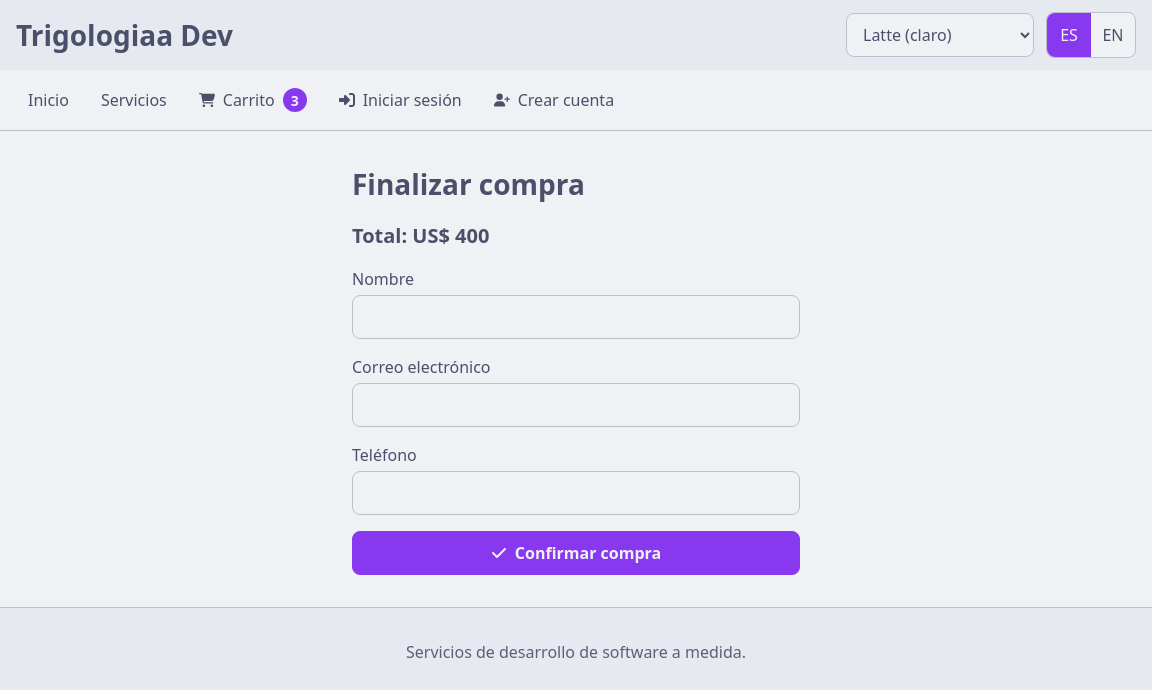
it: CheckoutPage › creates the order with a snapshot, shows its number and empties the cart
The width and height of the screenshot is (1152, 690).
Type "Ana" into the field labelled "Nombre" at [576, 317], box [352,295,800,339]
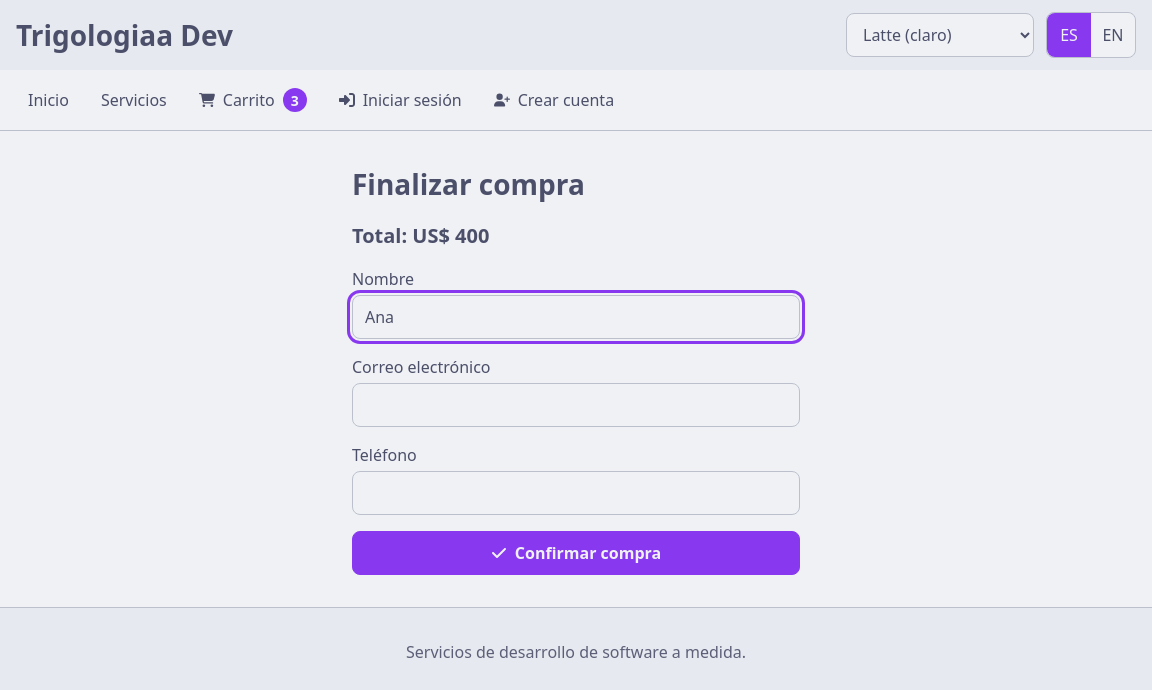
Type "ana@example.com" into the field labelled "Correo electrónico" at [576, 405], box [352,383,800,427]
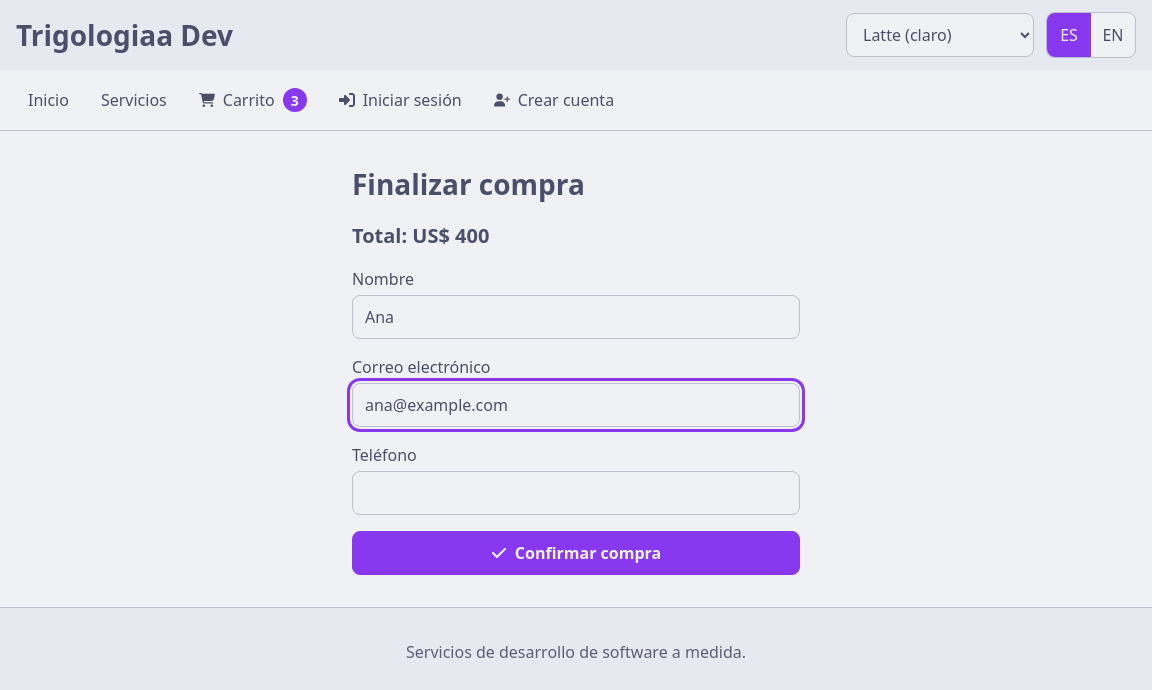
Type "+54 11 5555 5555" into the field labelled "Teléfono" at [576, 493], box [352,471,800,515]
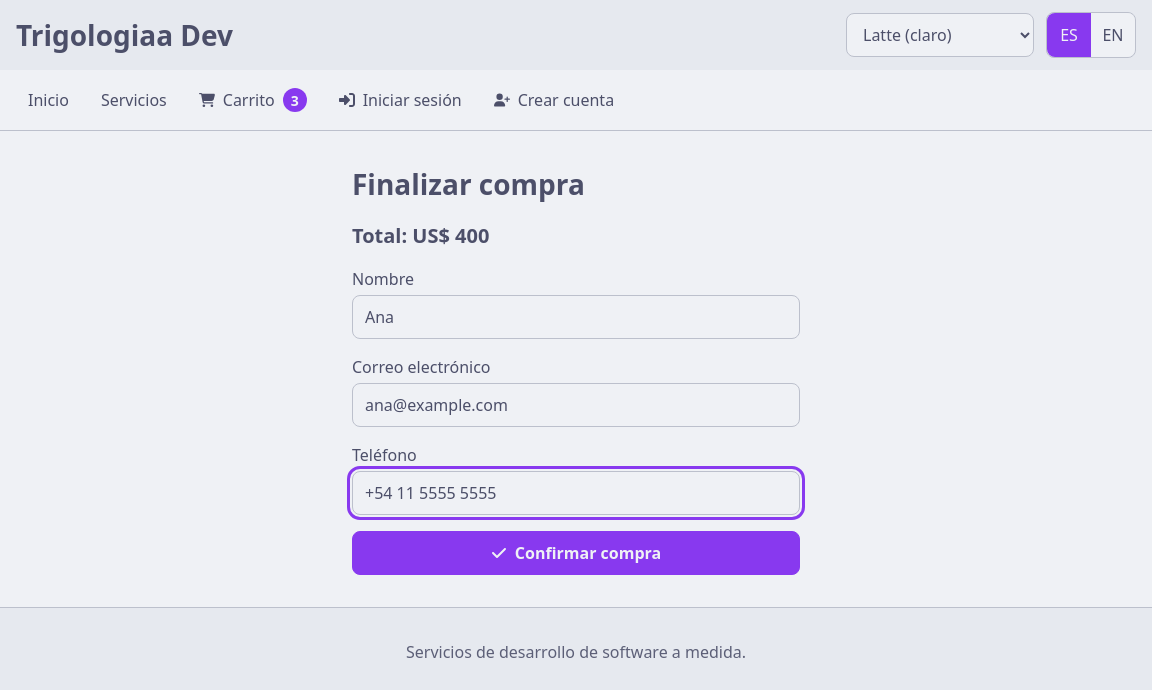
Click the button "Confirmar compra" at [576, 553], box [352,531,800,575]
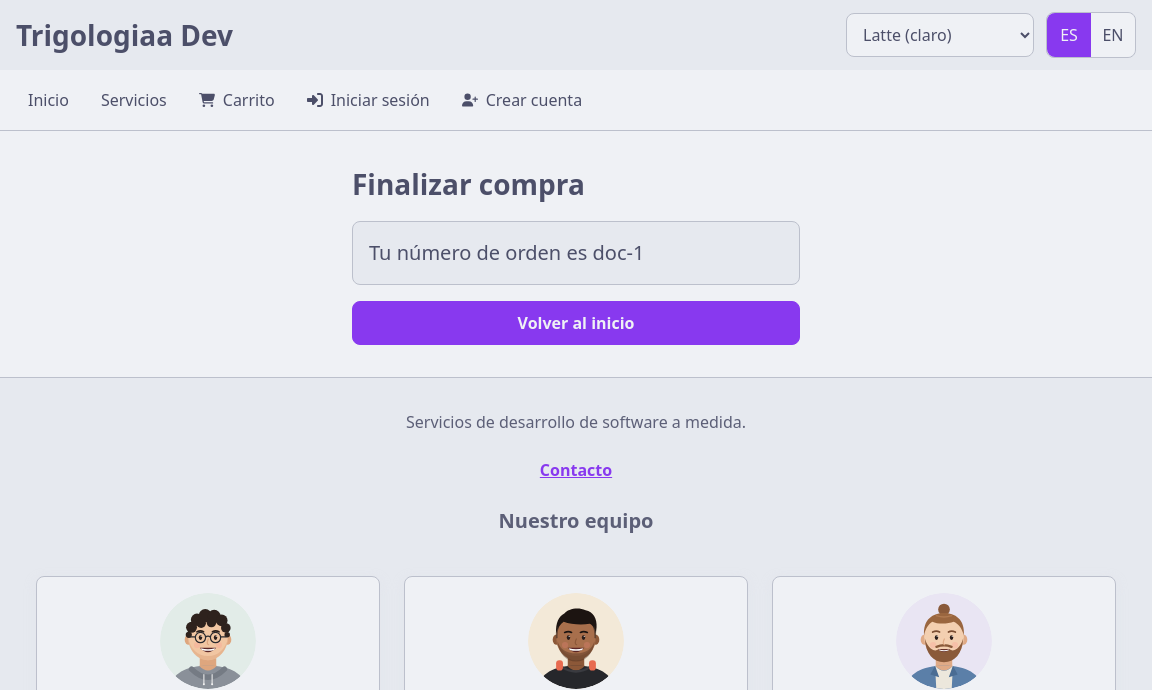
Now the message reads "Tu número de orden es doc-1", box [369,239,644,266]
